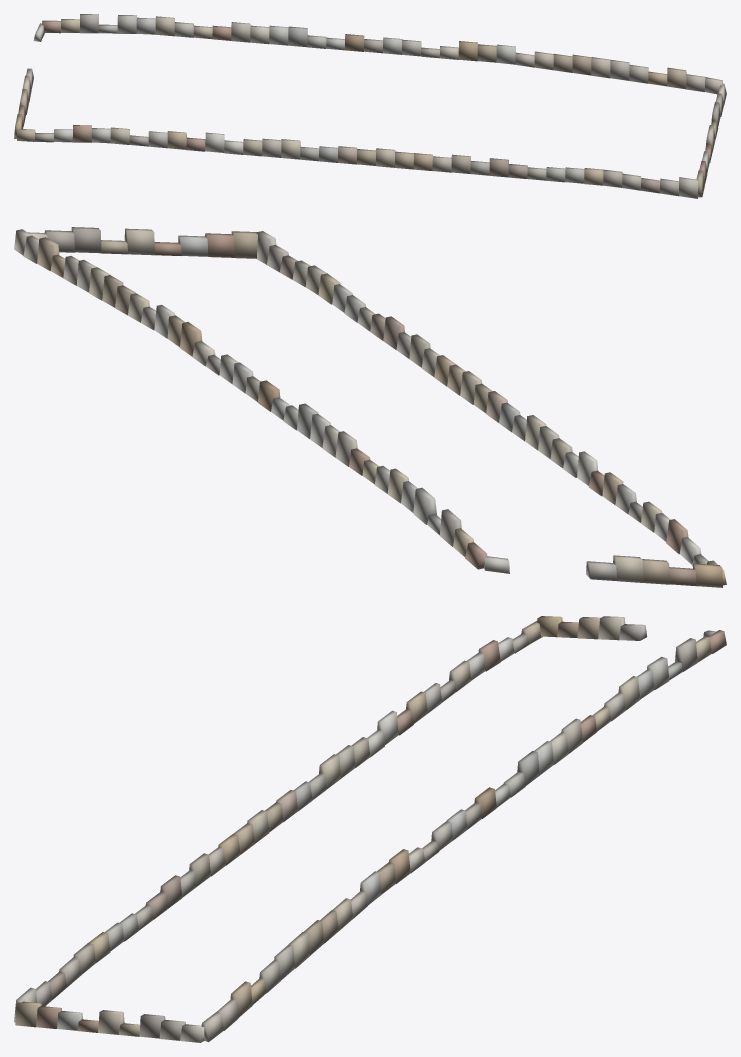
File: farm_-16_-23_collision.glb
3 renders of one model, top to bottom at view 1: azimuth 30°, elevation 25°; view 2: azimuth 150°, elevation 25°; view 3: azimuth 270°, elevation 25°, orthographic. The views are drawn at different scales.
Visible parts, largest first — view 1: geometry_0; view 2: geometry_0; view 3: geometry_0.
Part boxes in pixels (x1,y1,x2,y2): geometry_0: (14,14,726,198); geometry_0: (14,227,726,587); geometry_0: (14,616,726,1042).
Size of the model in its own units: 57.32 by 8.87 by 43.38.
